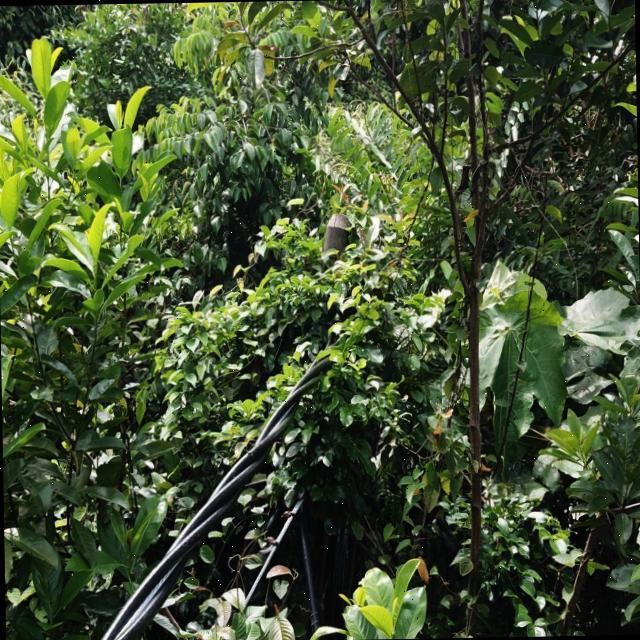critical vegetation: (201, 182, 458, 505)
